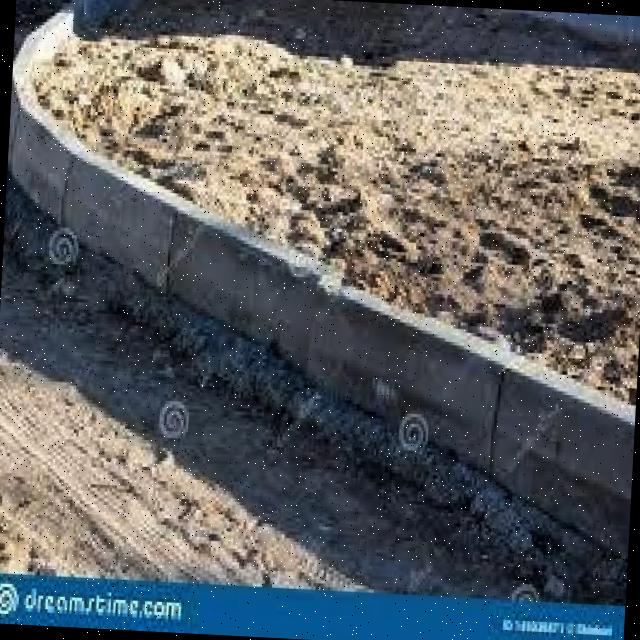curb: (387, 327, 637, 562), (193, 241, 406, 413), (70, 155, 234, 316), (6, 63, 74, 221)
